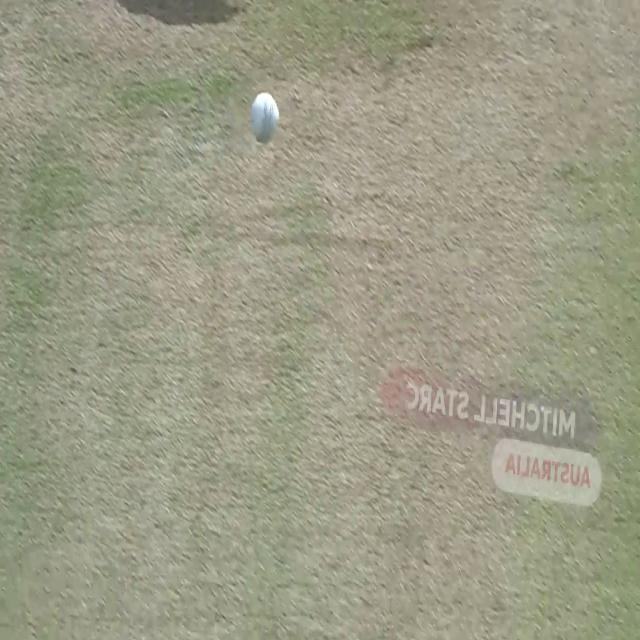ball: (248, 92, 280, 142)
